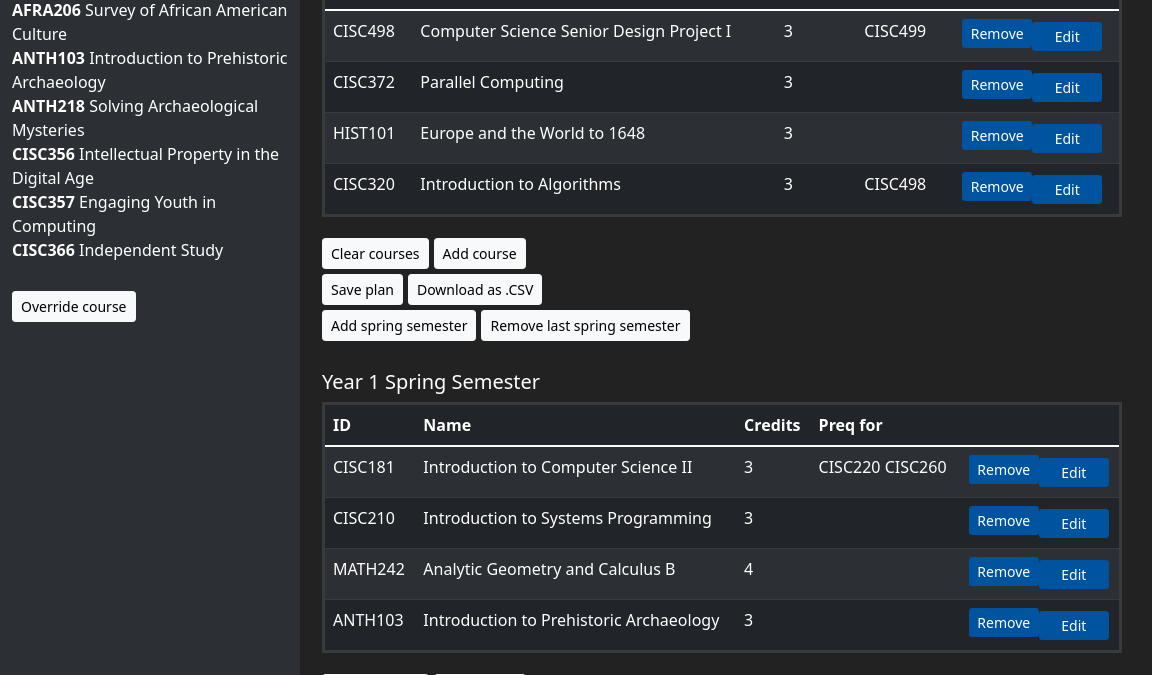
Test: Add spring semester works
(page scrolled)
Click the button "Add spring semester" at x=399, y=326, box top-left (322, 310), bottom-right (476, 341)
(page scrolled)
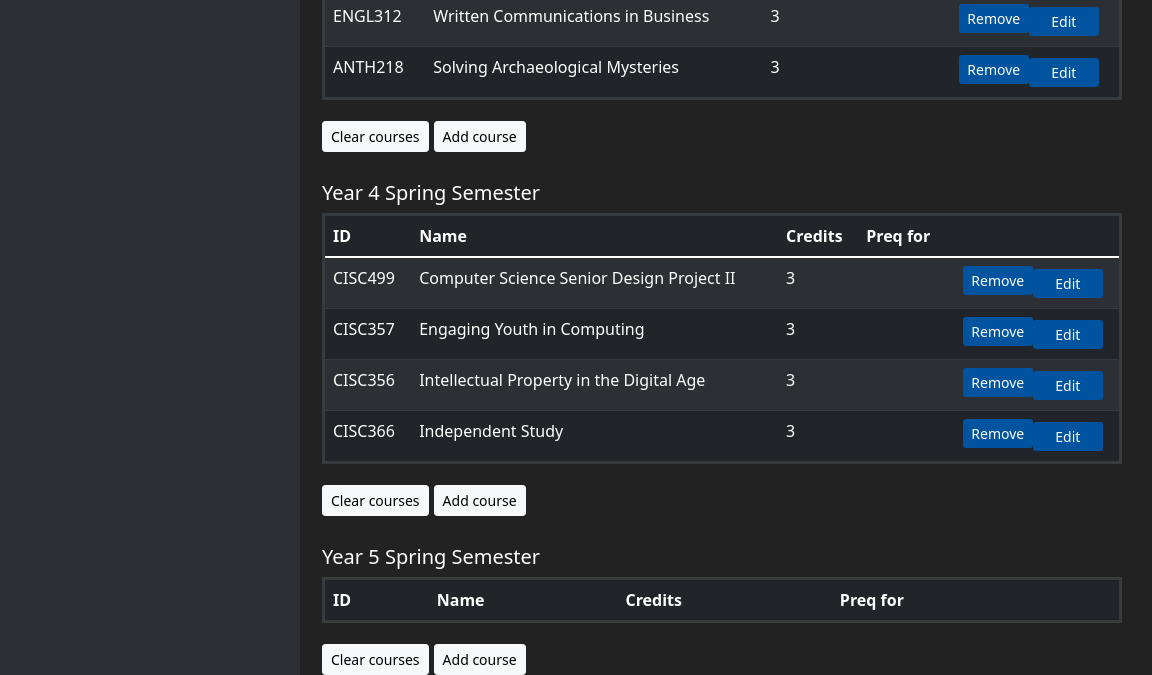
Check: the heading "Year 5 Spring Semester" is shown, box top-left (322, 543), bottom-right (540, 570)
